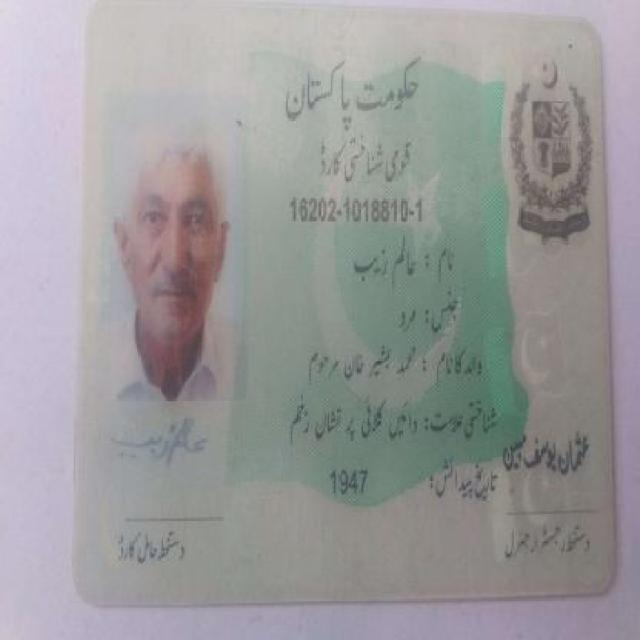Front: (72, 9, 618, 602)
